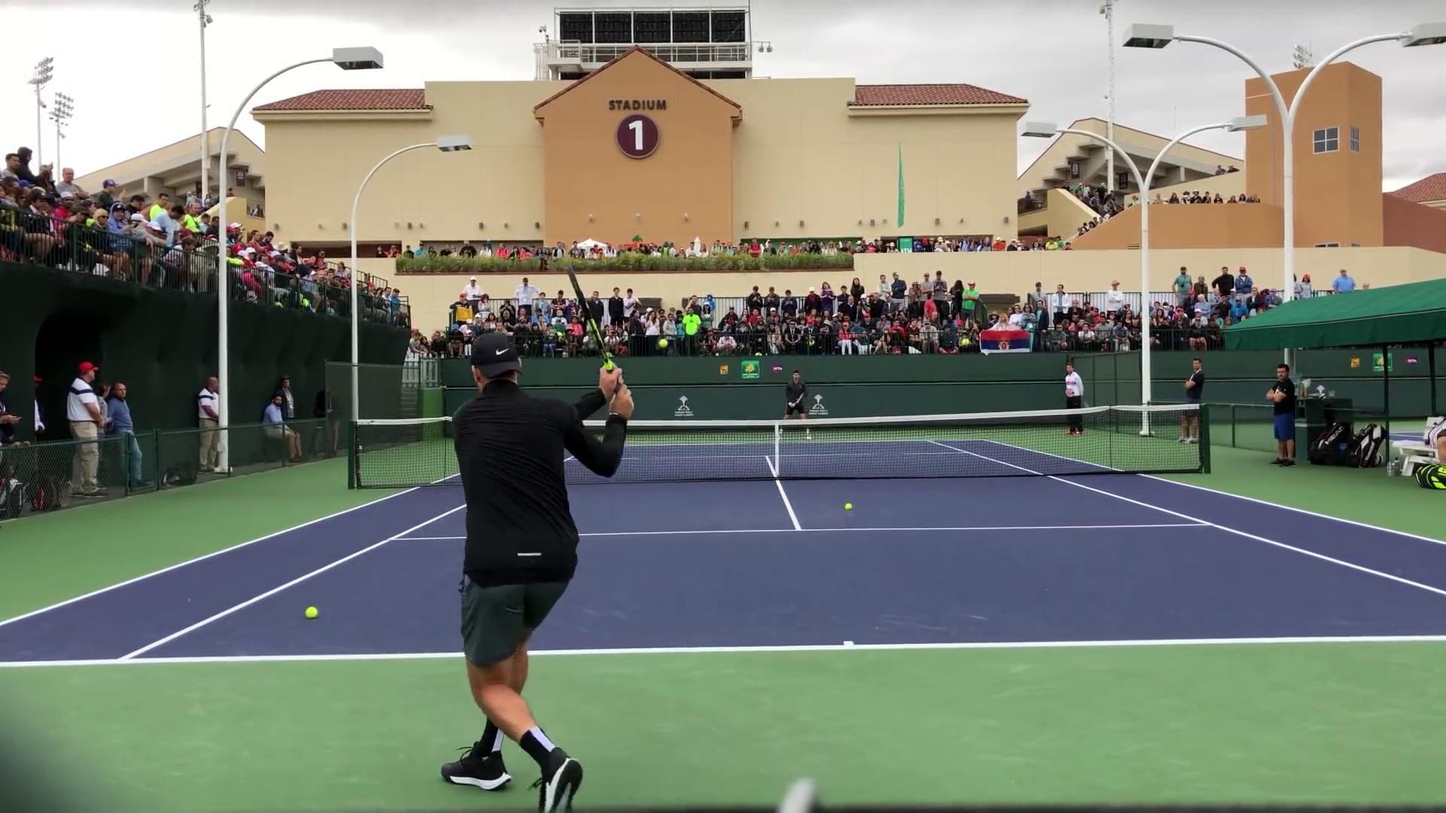ball: (305, 605, 318, 620), (844, 503, 852, 510)
